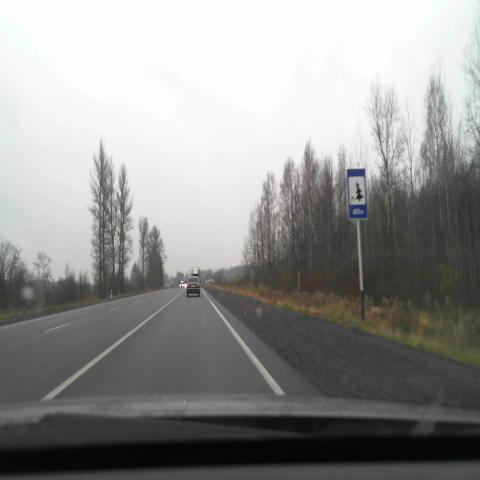7_11: (347, 170, 367, 220)
